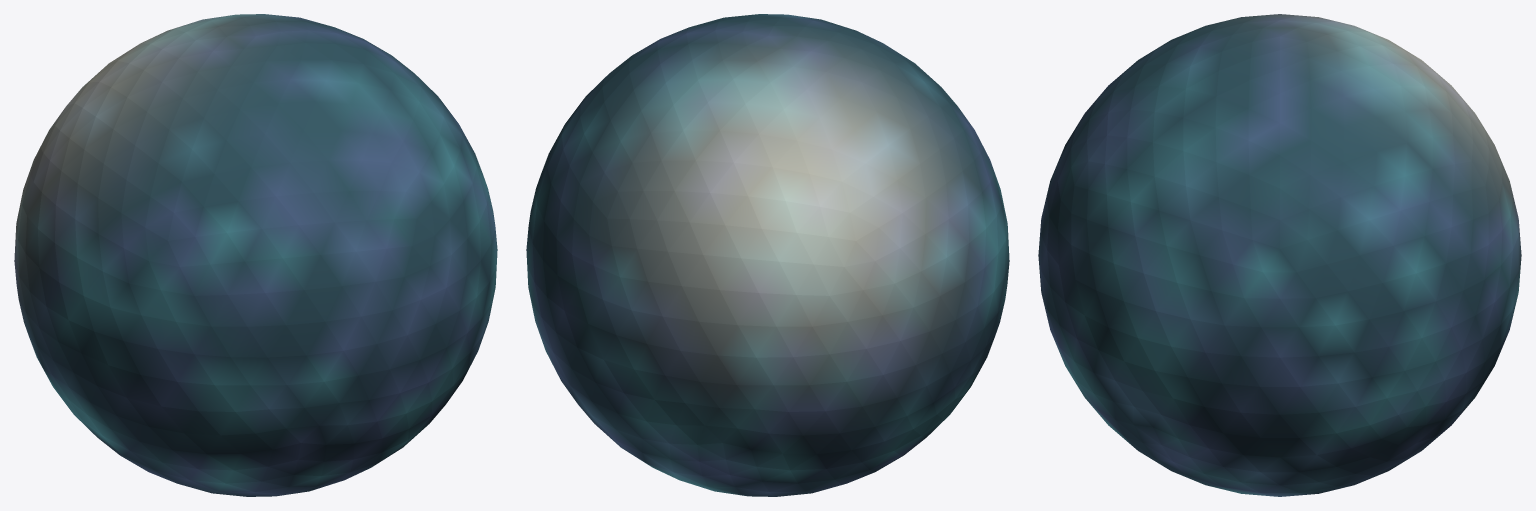
File: sky_shoal.glb
3 views of the same model, side by side, from view 1: azimuth 30°, elevation 25°; view 2: azimuth 150°, elevation 25°; view 3: azimuth 270°, elevation 25° (orthographic).
Parts seen in each view (by area): view 1: sky_shoal; view 2: sky_shoal; view 3: sky_shoal.
Boxes of the visible parts, box(x1,y1,x2,y2) form: sky_shoal: box(14, 14, 497, 496); sky_shoal: box(526, 14, 1009, 496); sky_shoal: box(1038, 14, 1521, 496).
Size of the model in its own units: 2 by 2 by 2.
